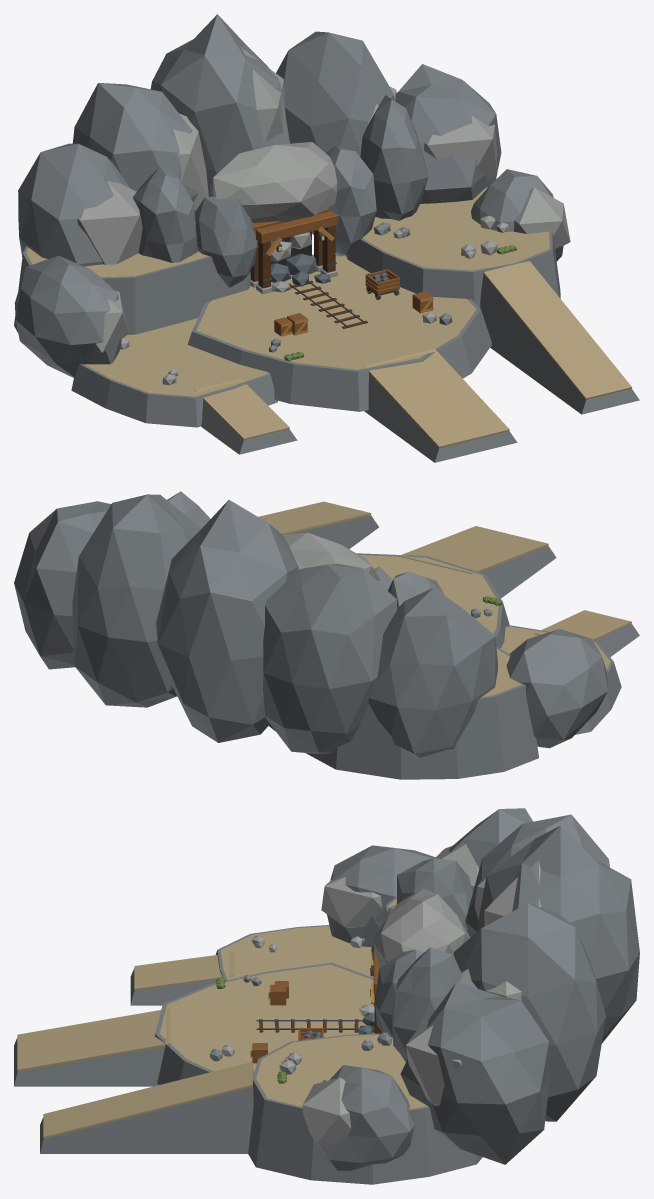
File: SealedMineEntrance.glb
The picture shows the model from 3 angles, top to bottom: view 1: azimuth 30°, elevation 25°; view 2: azimuth 150°, elevation 25°; view 3: azimuth 270°, elevation 25°; orthographic projection. The views are drawn at different scales.
Parts seen in each view (by area): view 1: Mountain_Stone, PortalCliffs_Stone, Approach_Dust, MainLedge_Dust, Mountain_StoneLight, ApproachFoundation_Stone, MainLedge_Stone, PortalCrown_StoneLight, EastLedge_Dust, WestLedge_Dust, UpperLedge_Stone, WestLedge_Stone (+8 smaller); view 2: Mountain_Stone, UpperLedge_Stone, Approach_Dust, ApproachFoundation_Stone, MainLedge_Dust, PortalCrown_StoneLight, PortalCliffs_Stone, WestLedge_Stone, MainLedge_Stone, WestLedge_Dust, UpperLedge_Dust; view 3: Mountain_Stone, ApproachFoundation_Stone, Approach_Dust, MainLedge_Dust, EastLedge_Stone, Mountain_StoneLight, PortalCliffs_Stone, EastLedge_Dust, WestLedge_Dust, PortalCrown_StoneLight, MainLedge_Stone, LooseBoulders_StoneLight (+1 smaller).
Part boxes in pixels (<box>): Mountain_Stone: <box>14,14,563,377</box>; PortalCliffs_Stone: <box>133,95,427,287</box>; Approach_Dust: <box>195,261,632,448</box>; MainLedge_Dust: <box>196,256,476,369</box>; Mountain_StoneLight: <box>77,47,570,352</box>; ApproachFoundation_Stone: <box>201,274,639,462</box>; MainLedge_Stone: <box>187,254,491,411</box>; PortalCrown_StoneLight: <box>212,142,337,222</box>; EastLedge_Dust: <box>362,188,549,270</box>; WestLedge_Dust: <box>83,318,267,396</box>; UpperLedge_Stone: <box>14,246,250,334</box>; WestLedge_Stone: <box>71,364,277,427</box>; Mountain_Stone: <box>14,494,607,757</box>; UpperLedge_Stone: <box>269,646,538,779</box>; Approach_Dust: <box>258,501,631,640</box>; ApproachFoundation_Stone: <box>289,515,639,656</box>; MainLedge_Dust: <box>360,555,498,633</box>; PortalCrown_StoneLight: <box>283,532,380,580</box>; PortalCliffs_Stone: <box>167,491,444,608</box>; WestLedge_Stone: <box>505,625,621,734</box>; MainLedge_Stone: <box>357,553,509,648</box>; WestLedge_Dust: <box>501,626,610,670</box>; UpperLedge_Dust: <box>482,649,522,697</box>; Mountain_Stone: <box>318,808,639,1170</box>; ApproachFoundation_Stone: <box>14,968,253,1153</box>; Approach_Dust: <box>17,952,252,1138</box>; MainLedge_Dust: <box>159,964,374,1074</box>; EastLedge_Stone: <box>248,1033,482,1184</box>; Mountain_StoneLight: <box>302,844,540,1144</box>; PortalCliffs_Stone: <box>371,858,472,1062</box>; EastLedge_Dust: <box>256,1034,427,1109</box>; WestLedge_Dust: <box>220,926,373,980</box>; PortalCrown_StoneLight: <box>372,888,469,967</box>; MainLedge_Stone: <box>155,962,373,1084</box>; LooseBoulders_StoneLight: <box>221,935,370,1081</box>.
Bounding box in the file's own units: 46.83 × 21.41 × 48.46.
